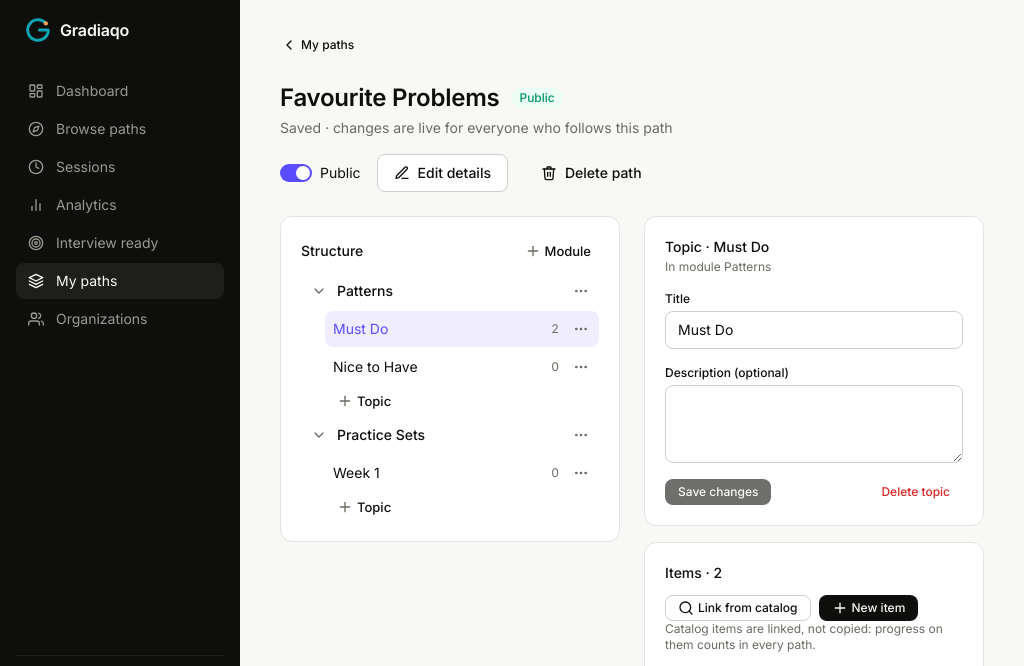
PathBuilderPage › editing › deletes a topic after asking, then opens the next one
This screenshot has width=1024, height=666.
Expected: the heading "Favourite Problems" is shown, left=280, top=82, right=500, bottom=114
Click the button "Delete topic": click(916, 492) left=868, top=479, right=963, bottom=505
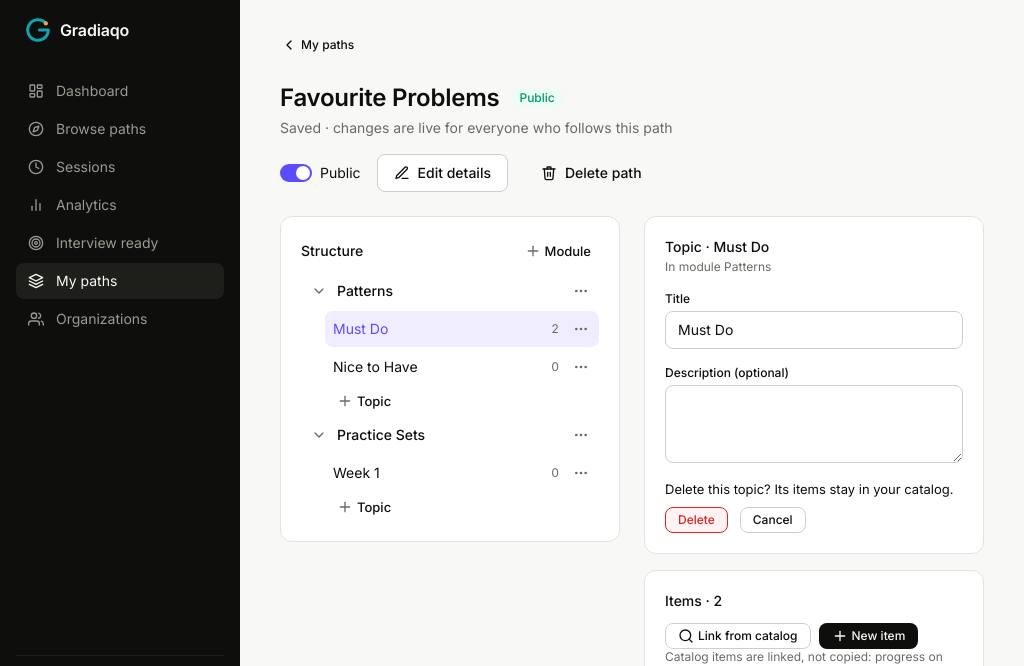
Expected: the text "Delete this topic? Its items stay in your catalog." is shown, left=665, top=479, right=954, bottom=499
Click the button "Cancel": click(773, 520) left=740, top=507, right=806, bottom=533
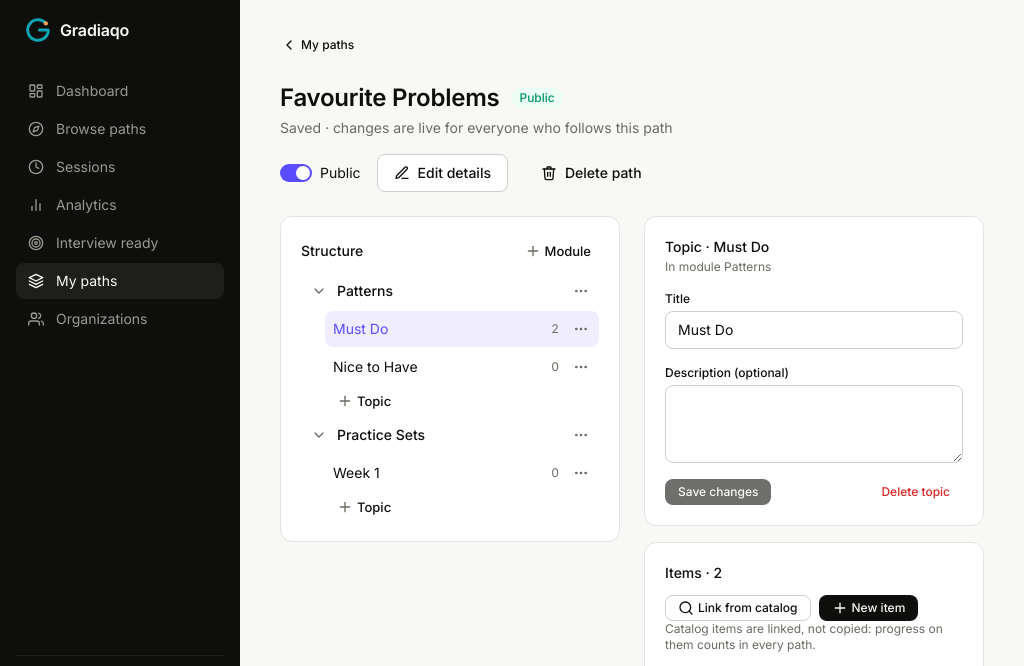
Click the button "Delete topic": click(916, 492) left=868, top=479, right=963, bottom=505
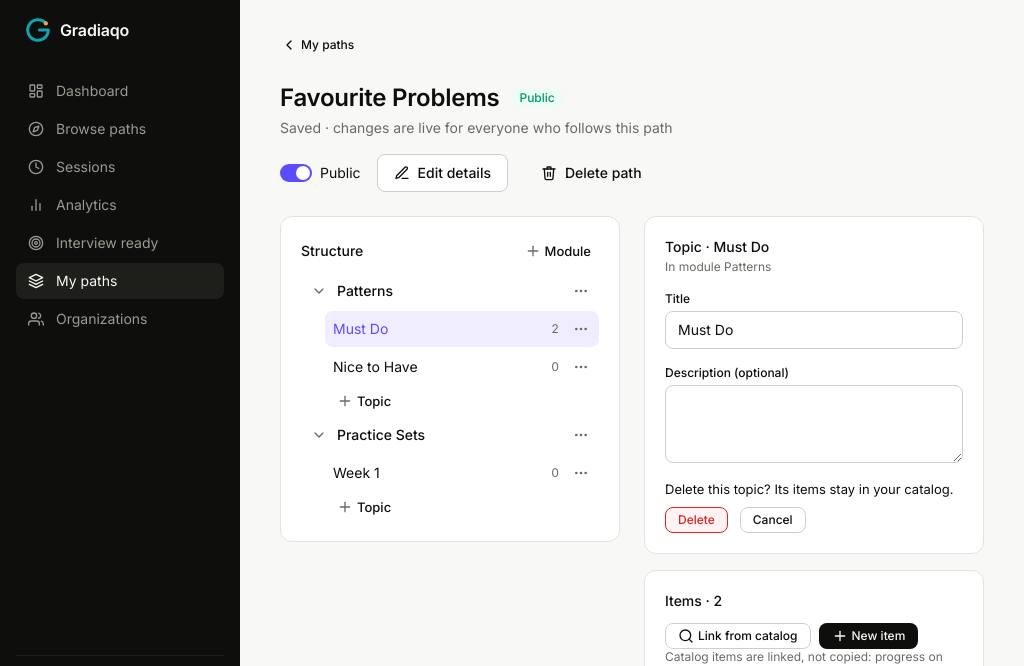
Click the button "Delete": click(696, 520) left=665, top=507, right=728, bottom=533
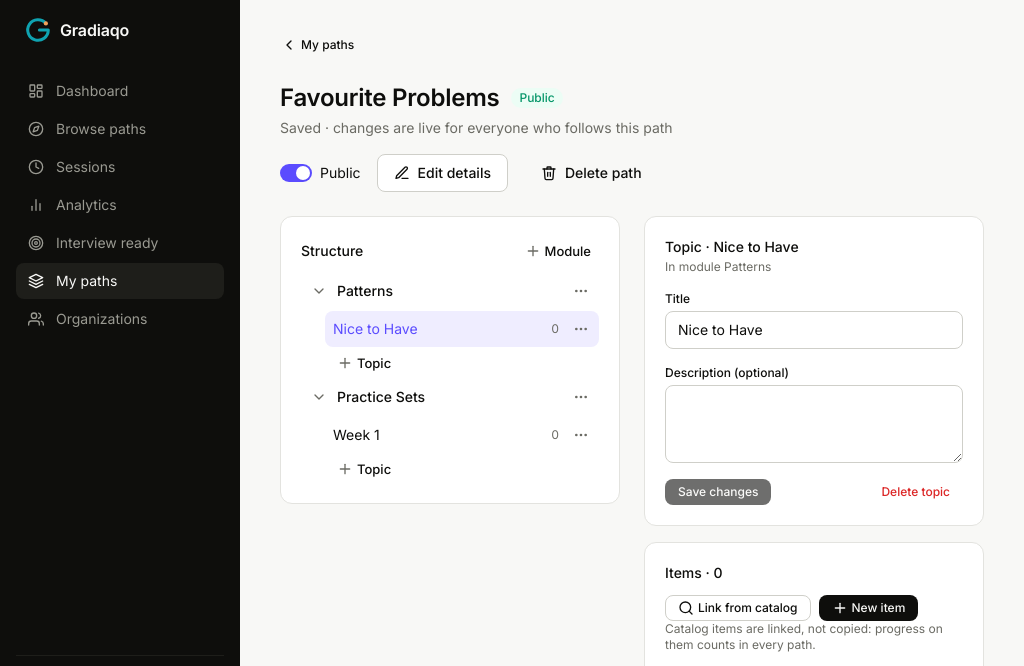
Expected: the heading "Topic · Nice to Have" is shown, left=665, top=238, right=799, bottom=255
Expected: the button "Must Do" is gone
